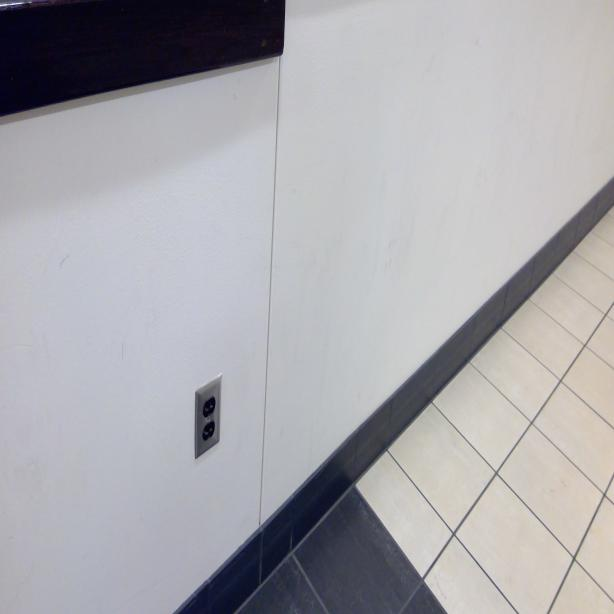typeb: (201, 398, 216, 418)
